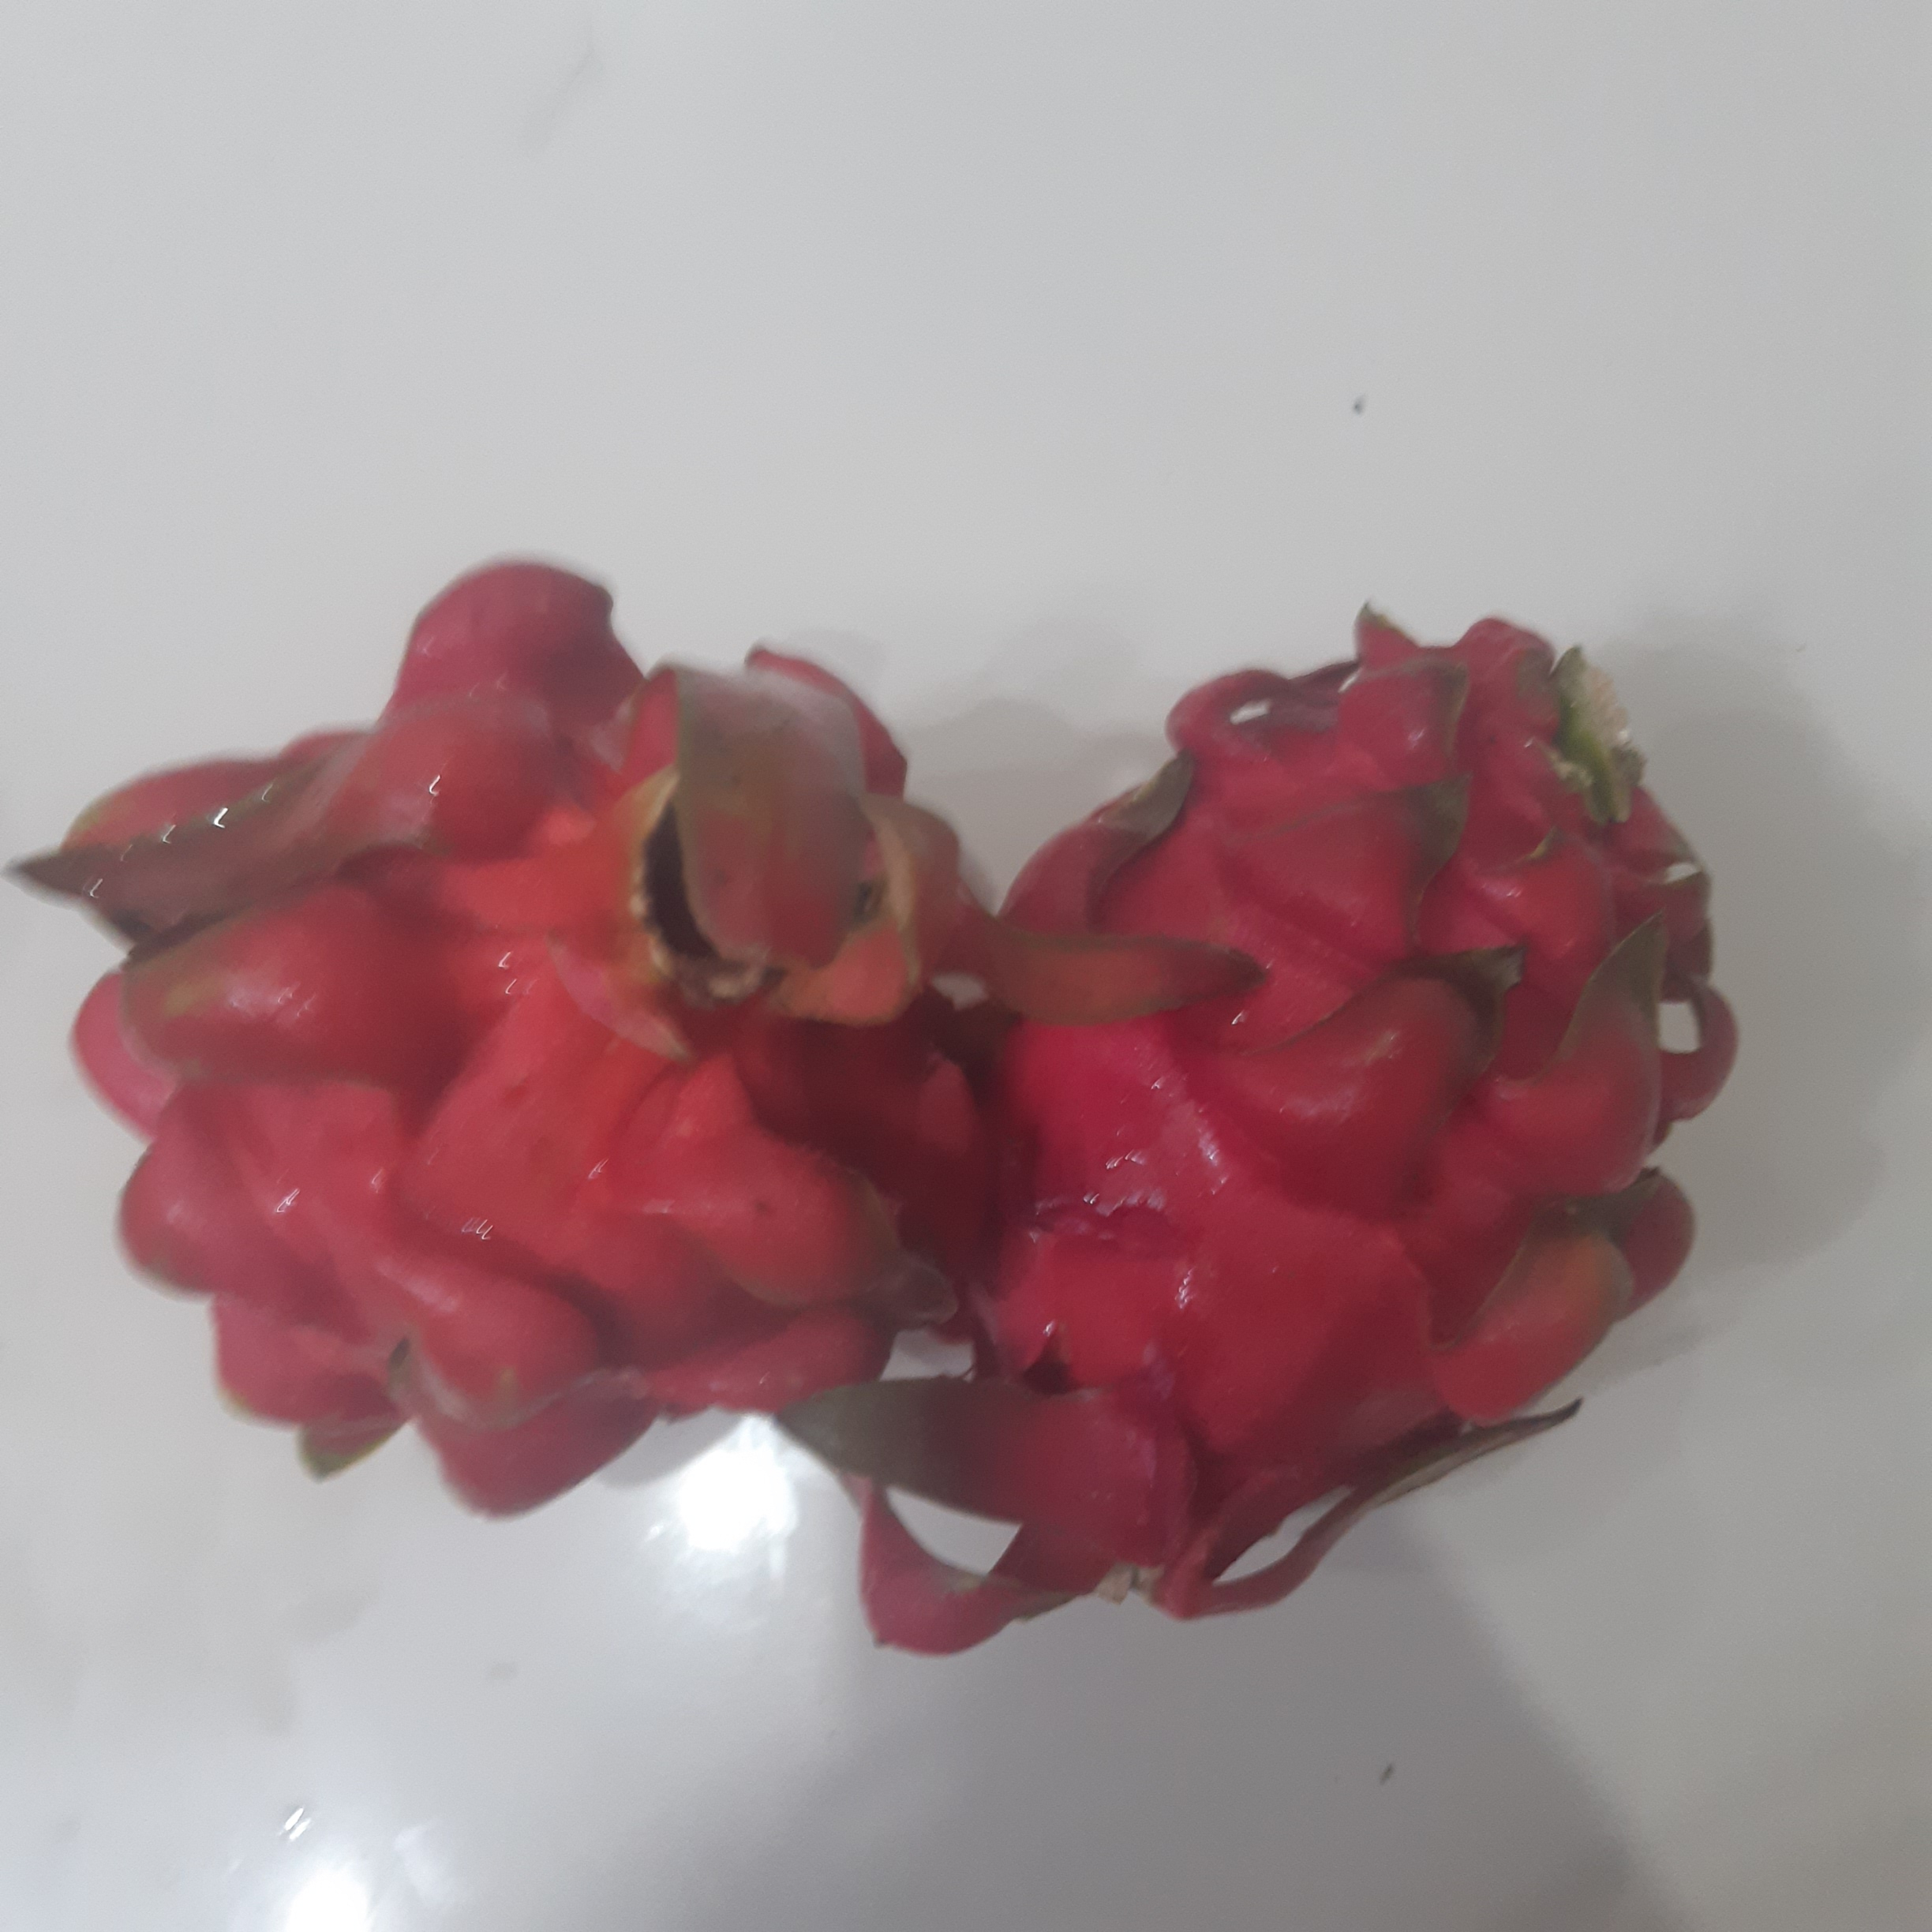Thanh long: (927, 635, 1706, 1611), (92, 702, 979, 1460)
